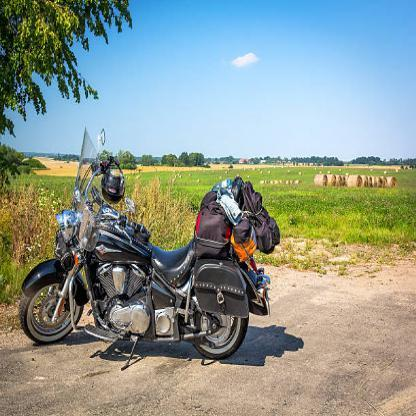Motorcycle: (19, 121, 278, 364)
